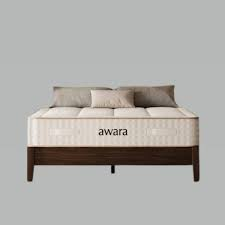bed-matress: (26, 101, 201, 145)
